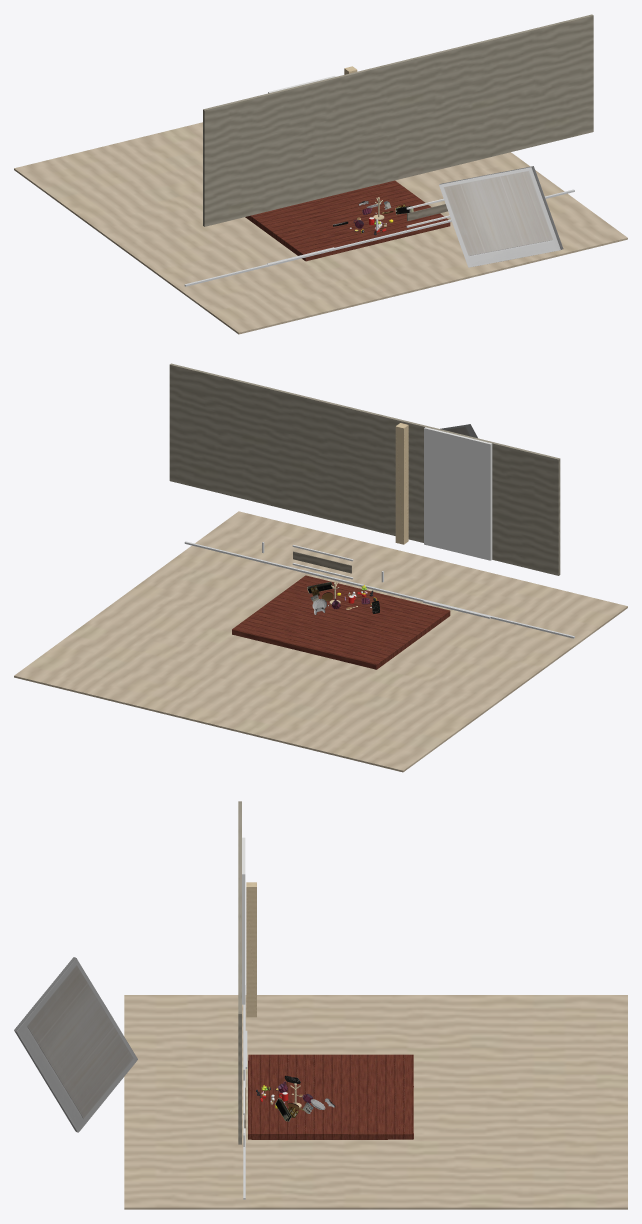
File: viga.glb
The picture shows the model from 3 angles, top to bottom: view 1: azimuth 30°, elevation 25°; view 2: azimuth 150°, elevation 25°; view 3: azimuth 270°, elevation 25°; orthographic projection. The views are drawn at different scales.
Parts seen in each view (by area): view 1: BACKDROP_wall, BACKDROP_floor, wooden_wall_panel_mesh, wooden_desk_mesh, BACKDROP_base; view 2: BACKDROP_floor, BACKDROP_wall, wooden_desk_mesh, BACKDROP_rwall, BACKDROP_pillar, BACKDROP_base; view 3: BACKDROP_floor, wooden_desk_mesh, wooden_wall_panel_mesh, BACKDROP_pillar, BACKDROP_wall, BACKDROP_rwall.
Boxes of the visible parts, x1,y1,x2,y2 form: BACKDROP_wall: (203,14,593,226); BACKDROP_floor: (14,122,627,334); wooden_wall_panel_mesh: (439,166,563,267); wooden_desk_mesh: (245,180,450,261); BACKDROP_base: (184,189,574,286); BACKDROP_floor: (14,511,627,772); BACKDROP_wall: (169,363,560,575); wooden_desk_mesh: (232,575,450,669); BACKDROP_rwall: (424,427,492,560); BACKDROP_pillar: (395,423,408,544); BACKDROP_base: (184,541,574,638); BACKDROP_floor: (124,995,627,1209); wooden_desk_mesh: (248,1054,413,1139); wooden_wall_panel_mesh: (14,957,137,1132); BACKDROP_pillar: (246,882,256,1017); BACKDROP_wall: (238,801,241,1144); BACKDROP_rwall: (242,837,245,1004).
Bounding box in the file's own units: 7.3 × 3.14 × 8.53.
43 materials, 28 textured.
